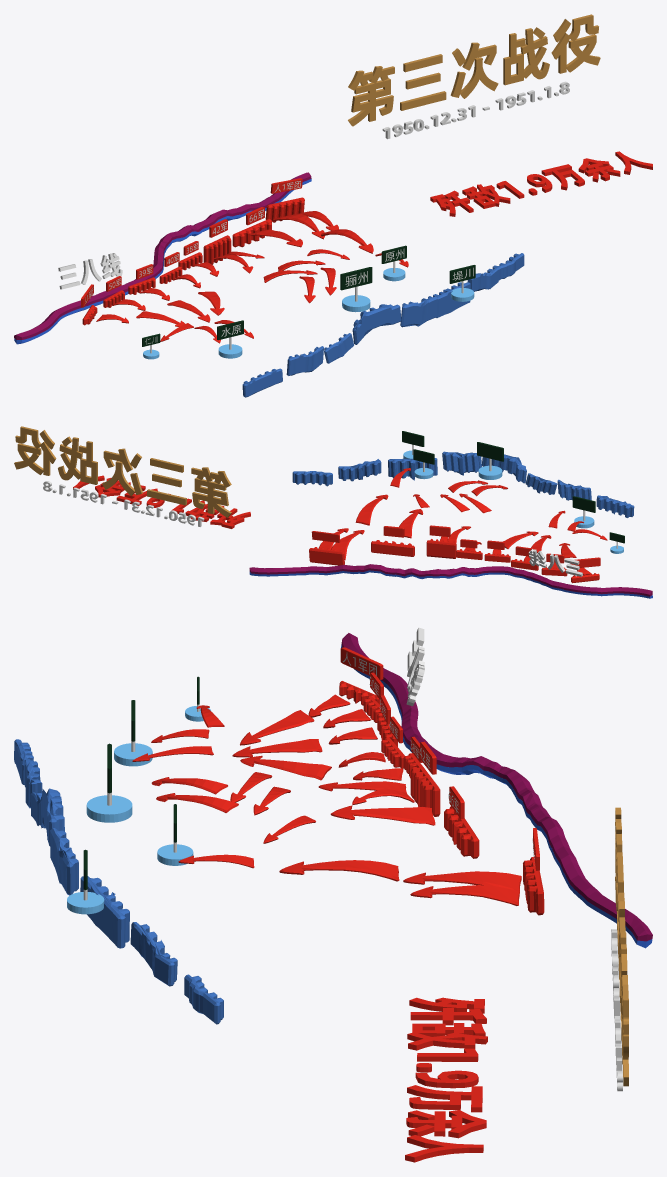
Rendered from 1-3-animate.glb.
3 views of the same model, one above another, from view 1: azimuth 30°, elevation 25°; view 2: azimuth 150°, elevation 25°; view 3: azimuth 270°, elevation 25° (orthographic). The views are drawn at different scales.
Parts seen in each view (by area): view 1: 文本.027, 文本.019, 38line2, 文本.028, 贝塞尔曲线.040, 柱体.015, 文本.026, 贝塞尔曲线.041, 柱体.014, 贝塞尔曲线.039, 柱体.017, 贝塞尔曲线.038 (+6 smaller); view 2: 文本.027, 38line2, 文本.019, 文本.028, 贝塞尔曲线.041, 柱体.015, 贝塞尔曲线.042, 贝塞尔曲线.043, 文本.026, 贝塞尔曲线.040, 贝塞尔曲线.051, 贝塞尔曲线.052 (+11 smaller); view 3: 文本.019, 38line2, 贝塞尔曲线.062, 文本.027, 贝塞尔曲线.042, 贝塞尔曲线.043, 柱体.015, 贝塞尔曲线.061, 贝塞尔曲线.041, 贝塞尔曲线.060, 贝塞尔曲线.044, 文本.028 (+12 smaller).
Part boxes in pixels (x1,y1,x2,y2): 文本.027: (348,14,600,126); 文本.019: (430,151,652,216); 38line2: (14,172,311,344); 文本.028: (382,81,569,139); 贝塞尔曲线.040: (352,304,401,344); 柱体.015: (340,267,372,312); 文本.026: (58,253,122,289); 贝塞尔曲线.041: (400,296,437,327); 柱体.014: (217,320,243,358); 贝塞尔曲线.039: (286,346,323,375); 柱体.017: (449,265,475,301); 贝塞尔曲线.038: (242,368,282,397); 文本.027: (14,426,231,517); 38line2: (249,564,652,598); 文本.019: (73,475,250,528); 文本.028: (43,481,204,526); 贝塞尔曲线.041: (442,451,481,475); 柱体.015: (477,442,503,479); 贝塞尔曲线.042: (388,458,437,480); 贝塞尔曲线.043: (338,459,381,481); 文本.026: (528,549,582,576); 贝塞尔曲线.040: (481,454,526,483); 贝塞尔曲线.051: (371,540,414,556); 贝塞尔曲线.052: (309,547,344,565); 文本.019: (405,997,487,1162); 38line2: (341,633,652,948); 贝塞尔曲线.062: (403,871,521,905); 文本.027: (615,807,628,1086); 贝塞尔曲线.042: (80,876,129,948); 贝塞尔曲线.043: (130,922,177,986); 柱体.015: (86,743,132,822); 贝塞尔曲线.061: (279,860,399,881); 贝塞尔曲线.041: (50,828,78,895); 贝塞尔曲线.060: (330,805,435,825); 贝塞尔曲线.044: (184,974,223,1024); 文本.028: (611,929,622,1091).
Size of what is drawn, in the model's own units: 52.62 by 8.8 by 26.93.
